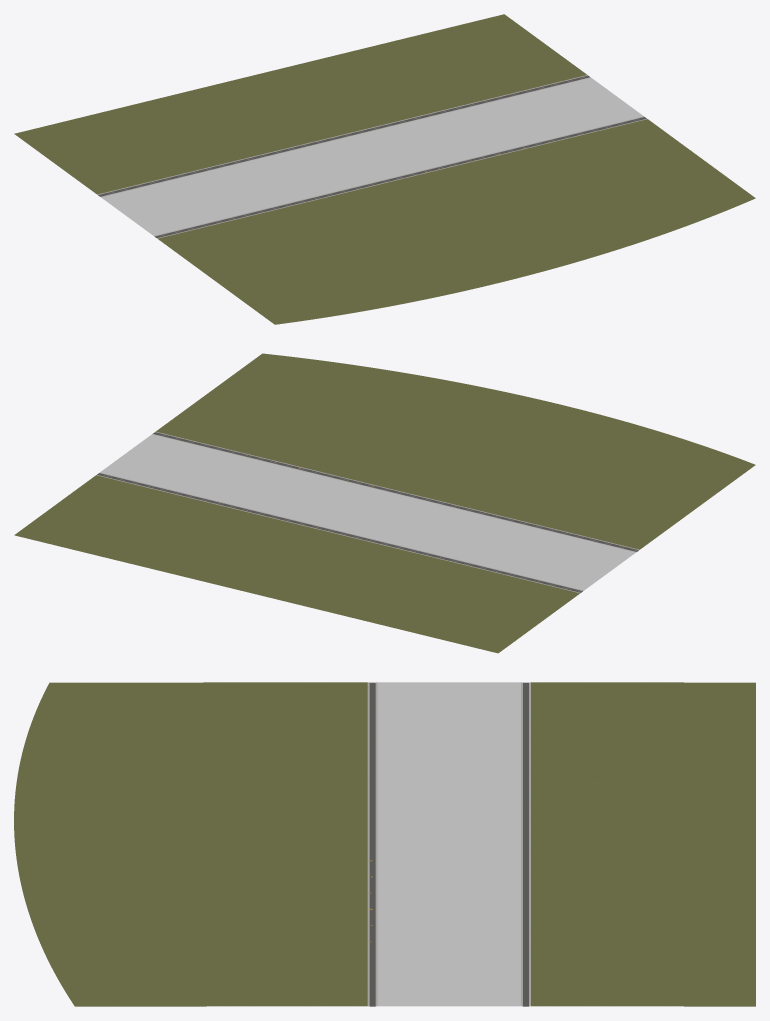
Rendered from Speedbump_map.fbx.
3 views of the same model, one above another, from view 1: azimuth 30°, elevation 25°; view 2: azimuth 150°, elevation 25°; view 3: azimuth 270°, elevation 25° (orthographic). The views are drawn at different scales.
Visible parts, largest first — view 1: Terrain_Ground_2Node, Terrain_Ground_3Node, Terrain_GroundNode, Terrain_Ground_1Node, Roads_Road_2Node, Roads_Road_3Node, Roads_Sidewalk_2Node, Roads_Sidewalk_3Node; view 2: Terrain_Ground_3Node, Terrain_Ground_2Node, Terrain_GroundNode, Terrain_Ground_1Node, Roads_Road_2Node, Roads_Road_3Node, Roads_Sidewalk_2Node, Roads_Sidewalk_3Node; view 3: Terrain_Ground_2Node, Terrain_Ground_3Node, Terrain_GroundNode, Terrain_Ground_1Node, Roads_Road_2Node, Roads_Road_3Node, Roads_Sidewalk_2Node, Roads_Sidewalk_3Node, Roads_RoadNode, Roads_Road_1Node.
Part boxes in pixels (x1,y1,x2,y2): Terrain_Ground_2Node: [14, 74, 398, 235]; Terrain_Ground_3Node: [259, 14, 643, 175]; Terrain_GroundNode: [158, 179, 532, 324]; Terrain_Ground_1Node: [403, 119, 755, 274]; Roads_Road_2Node: [98, 135, 400, 237]; Roads_Road_3Node: [343, 75, 645, 177]; Roads_Sidewalk_2Node: [97, 135, 398, 236]; Roads_Sidewalk_3Node: [342, 75, 644, 176]; Terrain_Ground_3Node: [14, 434, 393, 594]; Terrain_Ground_2Node: [256, 493, 635, 653]; Terrain_GroundNode: [398, 396, 755, 549]; Terrain_Ground_1Node: [156, 353, 525, 490]; Roads_Road_2Node: [339, 492, 637, 592]; Roads_Road_3Node: [97, 433, 395, 533]; Roads_Sidewalk_2Node: [338, 493, 636, 593]; Roads_Sidewalk_3Node: [96, 434, 393, 533]; Terrain_Ground_2Node: [377, 682, 755, 844]; Terrain_Ground_3Node: [377, 844, 755, 1006]; Terrain_GroundNode: [14, 682, 367, 844]; Terrain_Ground_1Node: [15, 844, 367, 1006]; Roads_Road_2Node: [372, 682, 528, 844]; Roads_Road_3Node: [372, 844, 528, 1006]; Roads_Sidewalk_2Node: [376, 682, 530, 844]; Roads_Sidewalk_3Node: [376, 844, 530, 1006]; Roads_RoadNode: [369, 682, 372, 844]; Roads_Road_1Node: [369, 844, 372, 1006].
Size of the model in its own units: 1000 by 968 by 0.1651.
